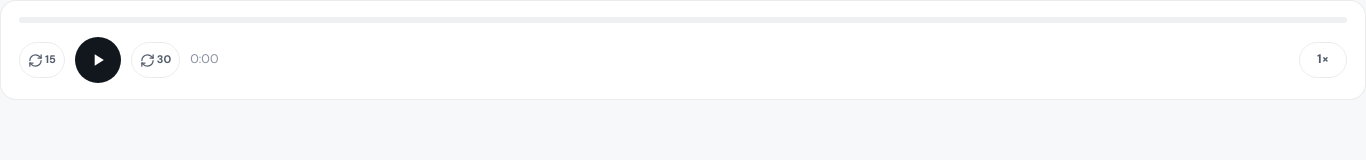
it: MediaPlayer › cycles the speed rather than hiding it behind a menu
Step 1. Click the button named "playback speed" → {"x": 1323, "y": 60}, box x1=1299 y1=42 x2=1347 y2=78
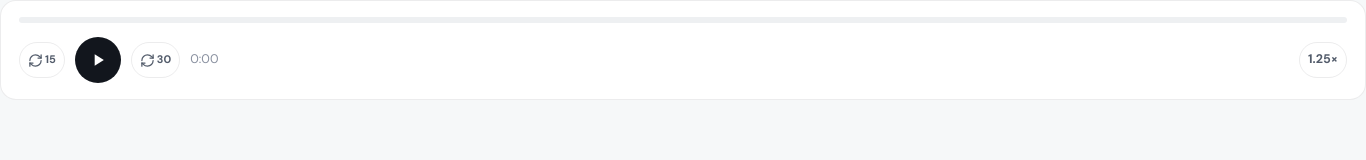
Expected: the button named "playback speed" reads "1.25×", x1=1299 y1=42 x2=1347 y2=78
